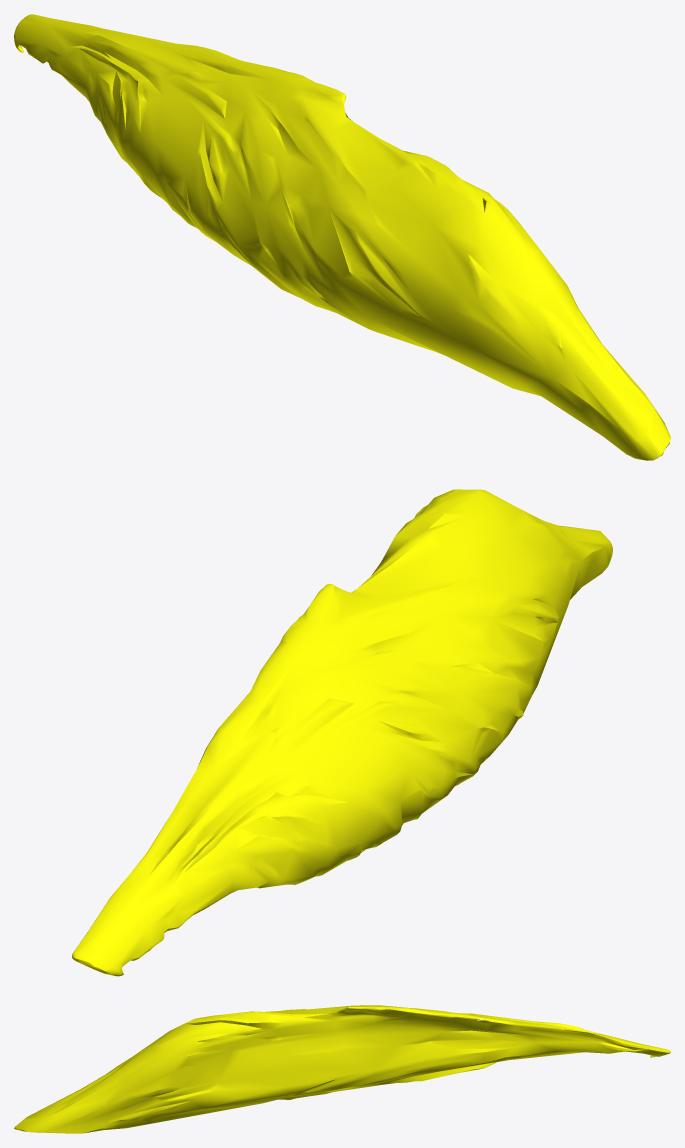
Rendered from LATERAL_TRICEPS_BRACHII.obj.
The picture shows the model from 3 angles, top to bottom: view 1: azimuth 30°, elevation 25°; view 2: azimuth 150°, elevation 25°; view 3: azimuth 270°, elevation 25°; orthographic projection. The views are drawn at different scales.
Parts seen in each view (by area): view 1: arm:FJ1477_grp1 arm:MAIN arm:MUSCLE arm:Triceps_Brachii arm:poly; view 2: arm:FJ1477_grp1 arm:MAIN arm:MUSCLE arm:Triceps_Brachii arm:poly; view 3: arm:FJ1477_grp1 arm:MAIN arm:MUSCLE arm:Triceps_Brachii arm:poly.
Boxes of the visible parts, x1=… form: arm:FJ1477_grp1 arm:MAIN arm:MUSCLE arm:Triceps_Brachii arm:poly: x1=14, y1=14, x2=670, y2=460; arm:FJ1477_grp1 arm:MAIN arm:MUSCLE arm:Triceps_Brachii arm:poly: x1=72, y1=489, x2=612, y2=976; arm:FJ1477_grp1 arm:MAIN arm:MUSCLE arm:Triceps_Brachii arm:poly: x1=14, y1=1005, x2=670, y2=1133.
Size of the model in its own units: 53.55 by 48.71 by 256.
